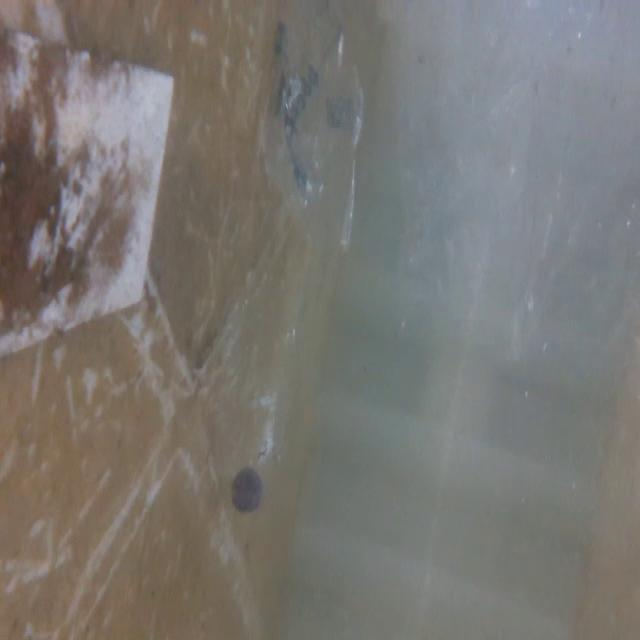plastic bags: (258, 6, 368, 250)
